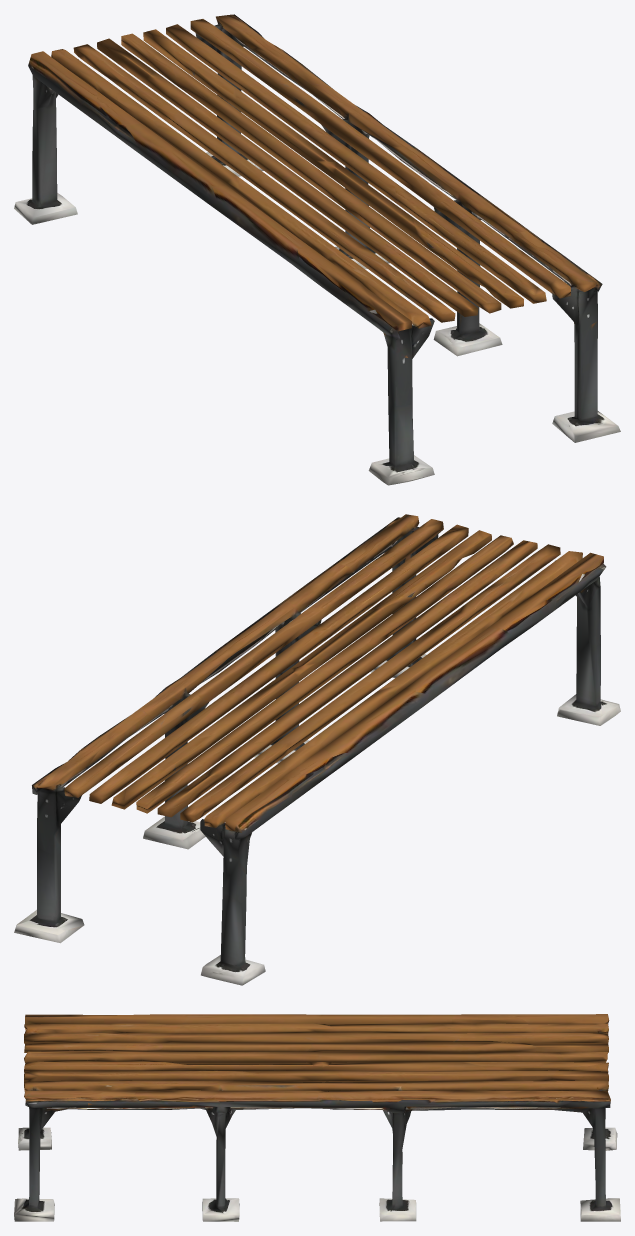
The model's file is shade-structure.glb.
3 renders of one model, top to bottom at view 1: azimuth 30°, elevation 25°; view 2: azimuth 150°, elevation 25°; view 3: azimuth 270°, elevation 25°, orthographic. The views are drawn at different scales.
Parts seen in each view (by area): view 1: tripo_node_6678438d-f961-4ba1-8838-3de9f8c2cc03; view 2: tripo_node_6678438d-f961-4ba1-8838-3de9f8c2cc03; view 3: tripo_node_6678438d-f961-4ba1-8838-3de9f8c2cc03.
Boxes of the visible parts, left/top/right/bottom form: tripo_node_6678438d-f961-4ba1-8838-3de9f8c2cc03: left=14, top=14, right=620, bottom=485; tripo_node_6678438d-f961-4ba1-8838-3de9f8c2cc03: left=14, top=514, right=620, bottom=985; tripo_node_6678438d-f961-4ba1-8838-3de9f8c2cc03: left=14, top=1014, right=620, bottom=1221.
Size of the model in its own units: 0.3468 by 0.2264 by 0.9981.
1 material, 1 textured.
